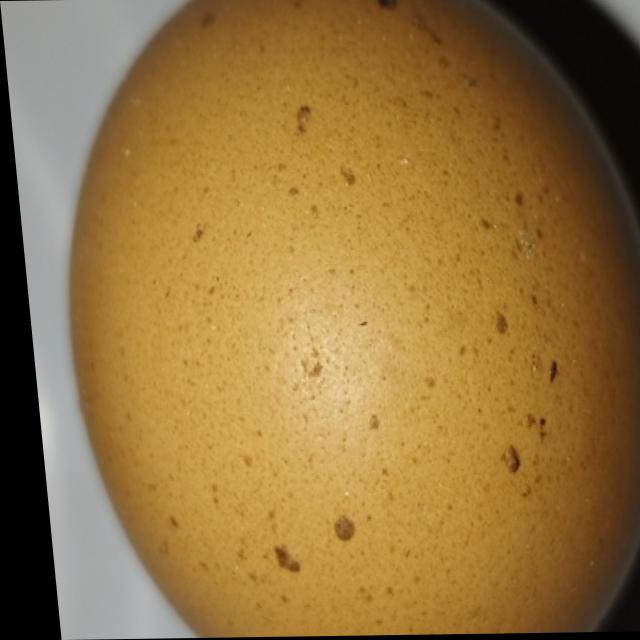unfresh: (35, 0, 640, 640)
